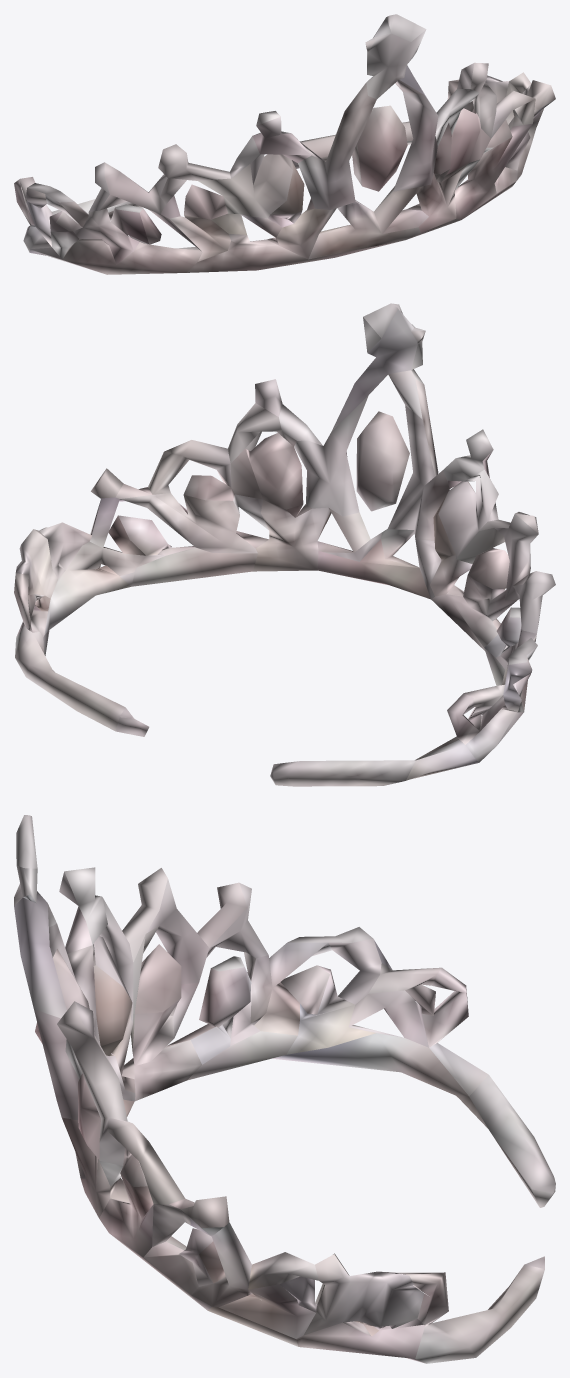
3 renders of one model, top to bottom at view 1: azimuth 30°, elevation 25°; view 2: azimuth 150°, elevation 25°; view 3: azimuth 270°, elevation 25°, orthographic. The views are drawn at different scales.
Parts seen in each view (by area): view 1: Silver-Tiara-04; view 2: Silver-Tiara-04; view 3: Silver-Tiara-04.
Part boxes in pixels (x1,y1,x2,y2): Silver-Tiara-04: (14, 14, 555, 274); Silver-Tiara-04: (14, 303, 555, 786); Silver-Tiara-04: (14, 815, 555, 1363).
Size of the model in its own units: 0.3079 by 0.1857 by 0.2081.
Materials: 1 (1 with a texture image).
